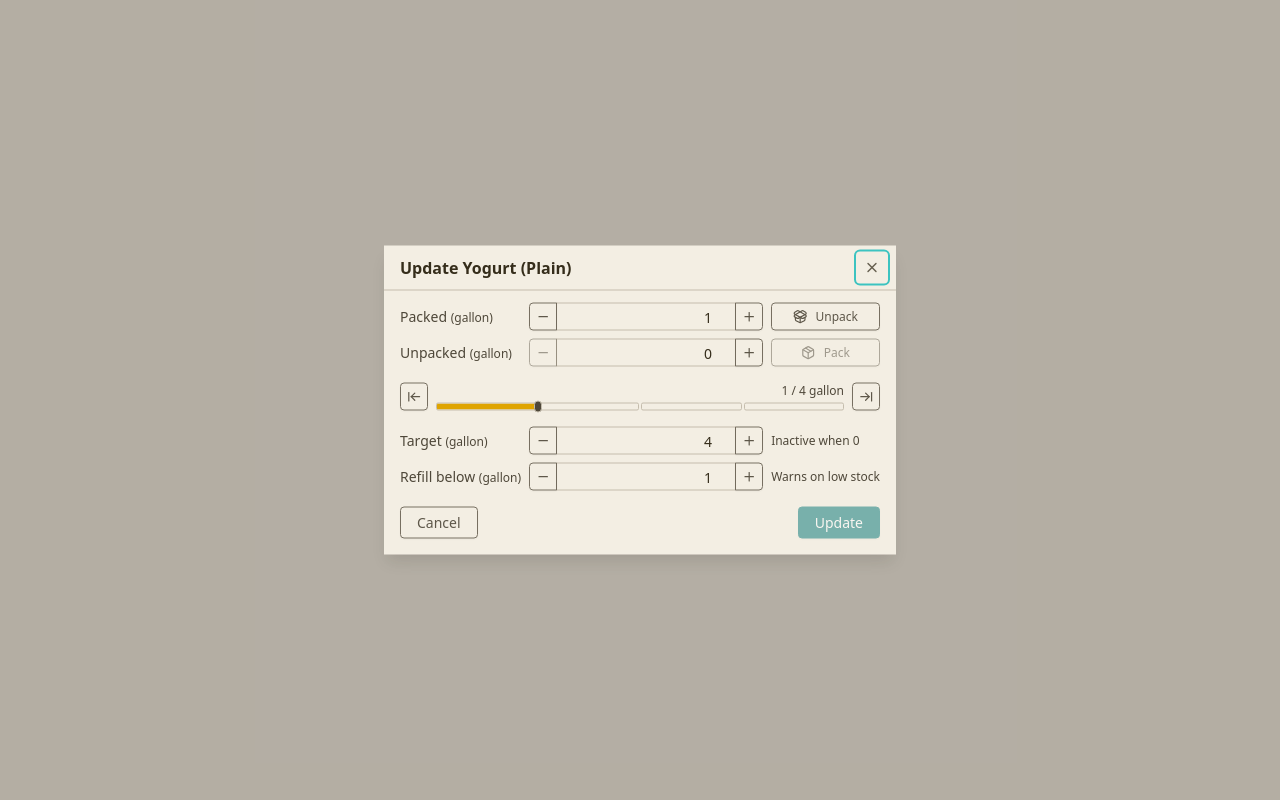
Test: QuickUpdateDialog — live preview of stock settings › user fills to the edited target, not the stored one
// When the user raises the target to 6 and clicks Fill to Full
Click the button named "Increase target quantity": (749, 440) [735, 426, 763, 454]
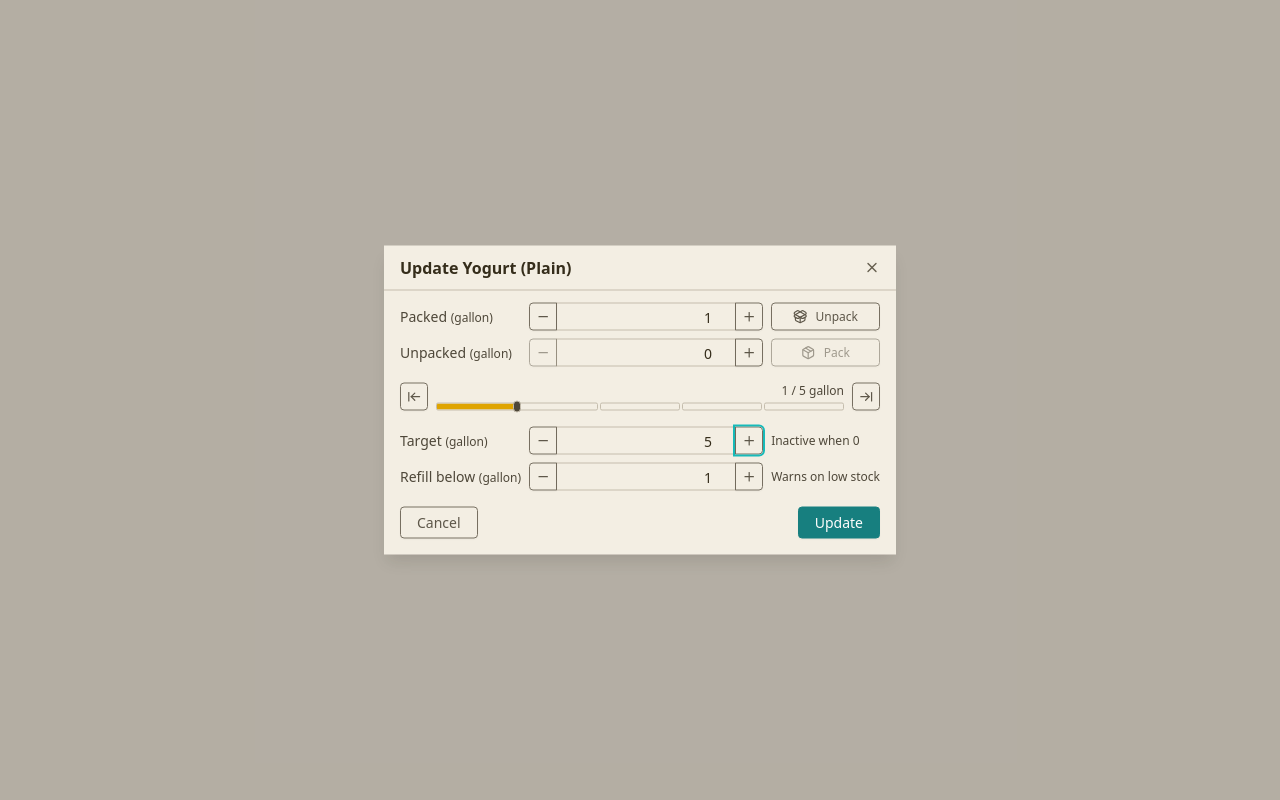
Click the button named "Increase target quantity": (749, 440) [735, 426, 763, 454]
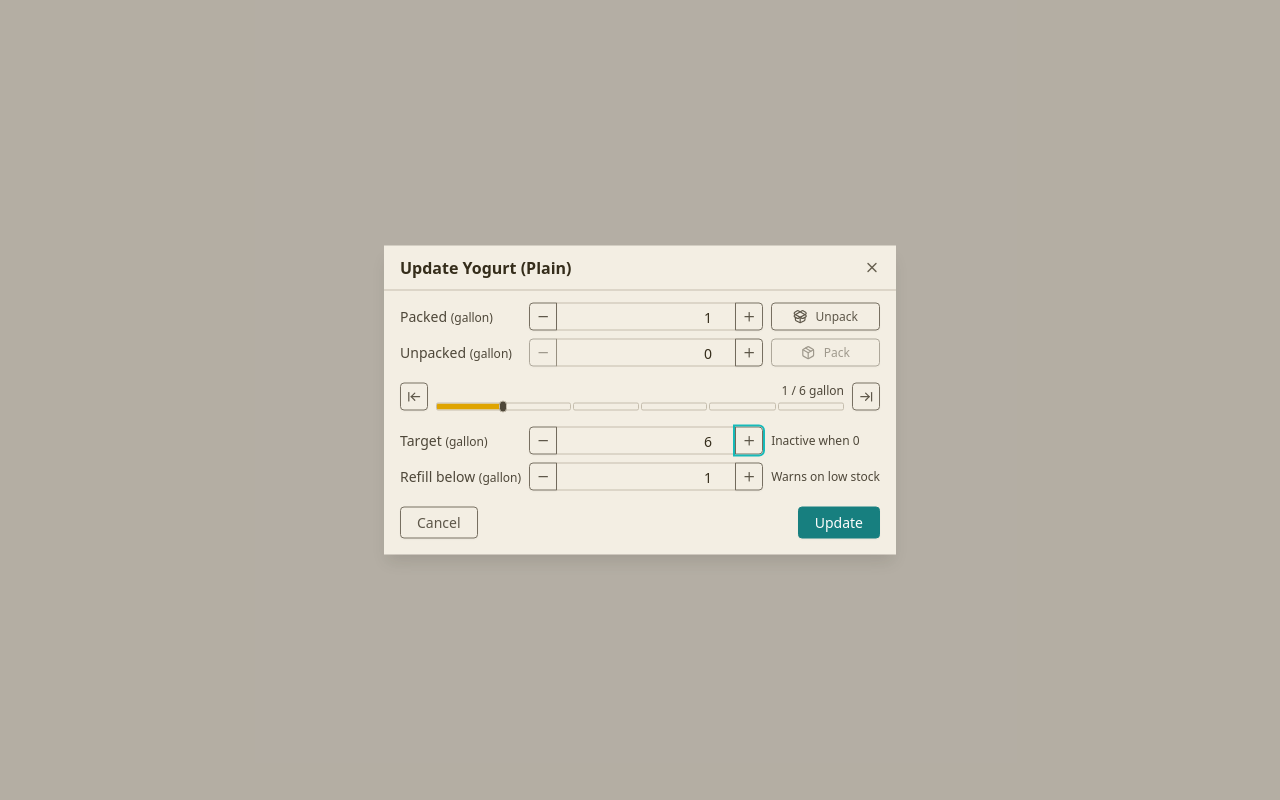
Click the button named "Fill to Full": (866, 396) [852, 382, 880, 410]
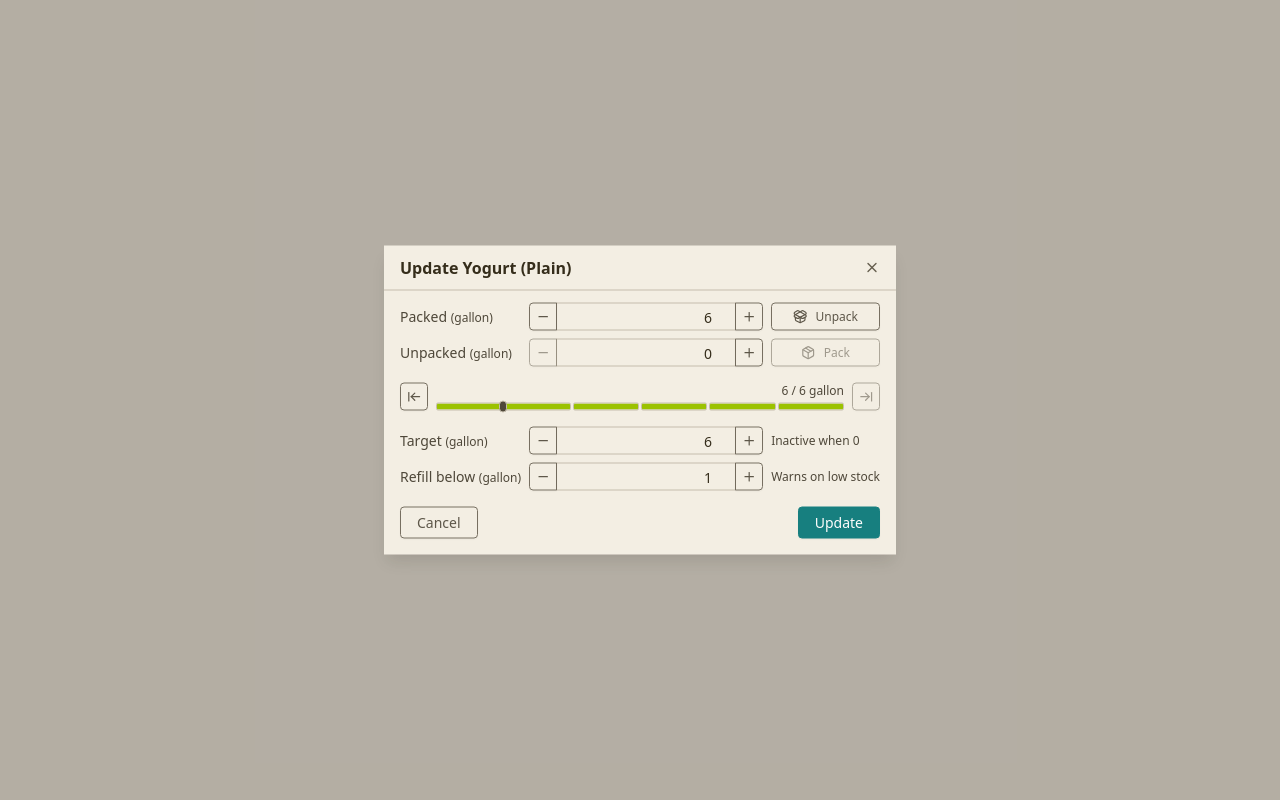
Result: the number field named "Packed (gallon)" holds "6" at [556, 302, 736, 330]
